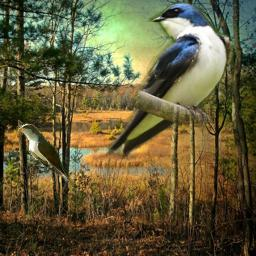Cuckoo: (16, 122, 80, 196)
Swallow: (106, 1, 235, 159)
